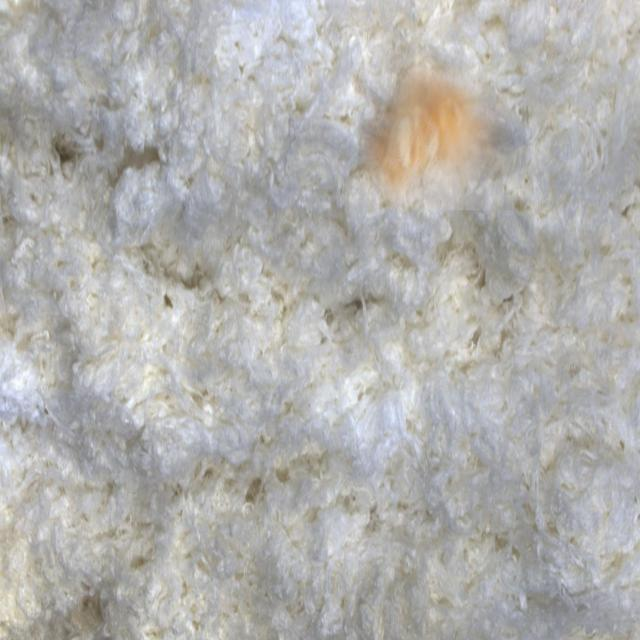dust: (358, 40, 512, 211)
